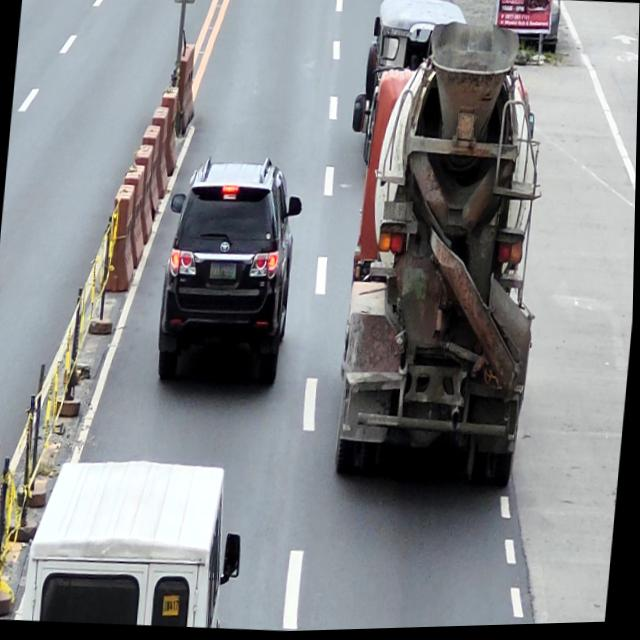Car: (24, 452, 250, 635), (156, 153, 307, 394)
Jeep: (365, 0, 469, 104)
License-Plate: (210, 261, 238, 283)
Truck: (335, 19, 561, 498)
